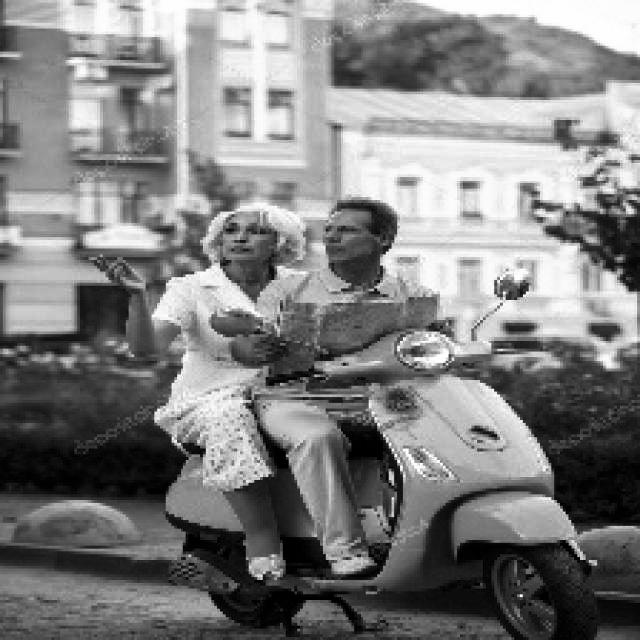Bike: (168, 351, 622, 631)
